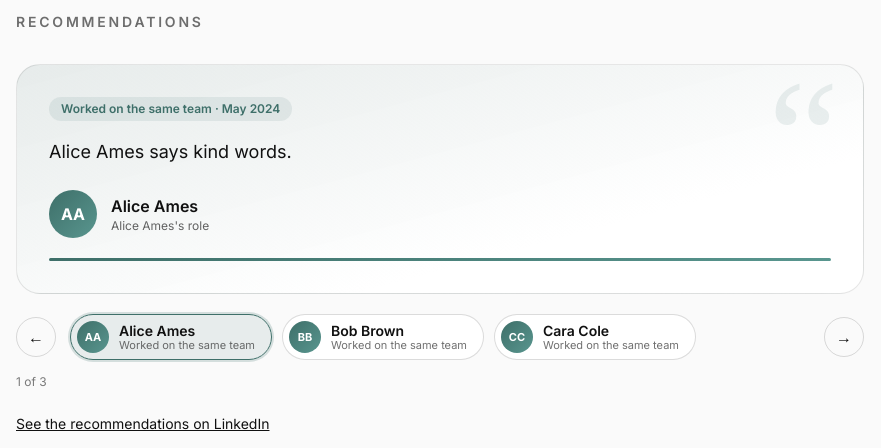
Recommendations › switches the featured quote when a person is picked
This screenshot has width=881, height=448.
Click the tab "BB Bob Brown Worked on the same team" at (383, 337), box [282,314,484,360]
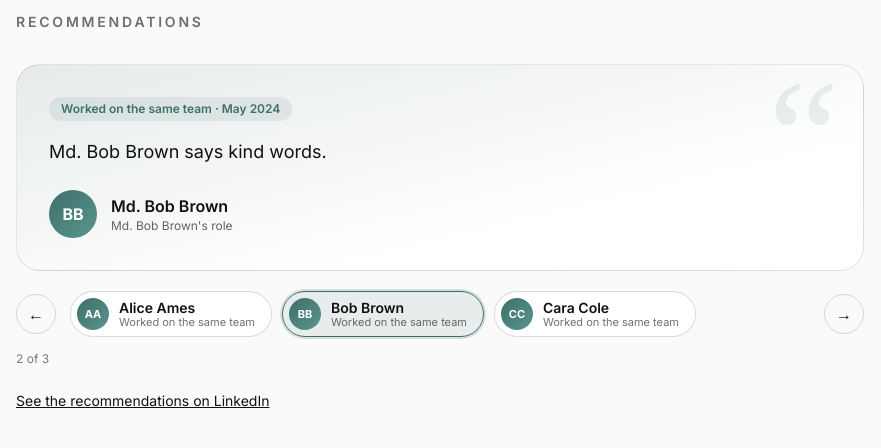
Check: the text "Md. Bob Brown says kind words." is shown, box [49,141,327,162]
Check: the text "2 of 3" is shown, box [16,351,49,366]
